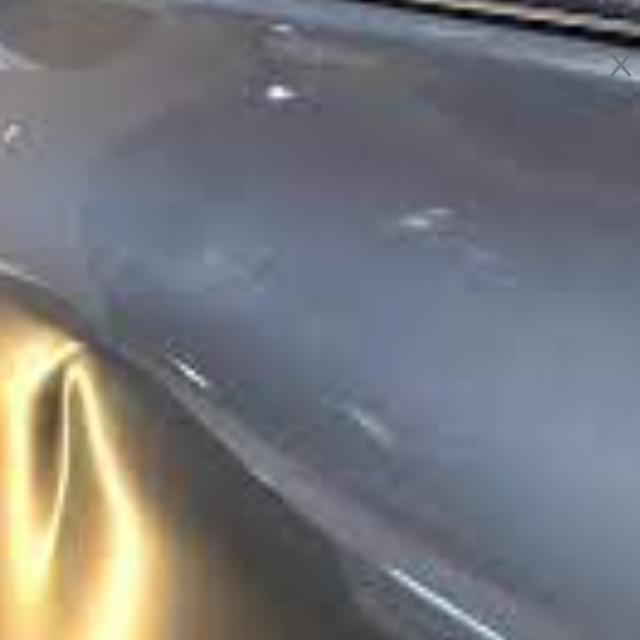dents: (25, 334, 112, 546)
